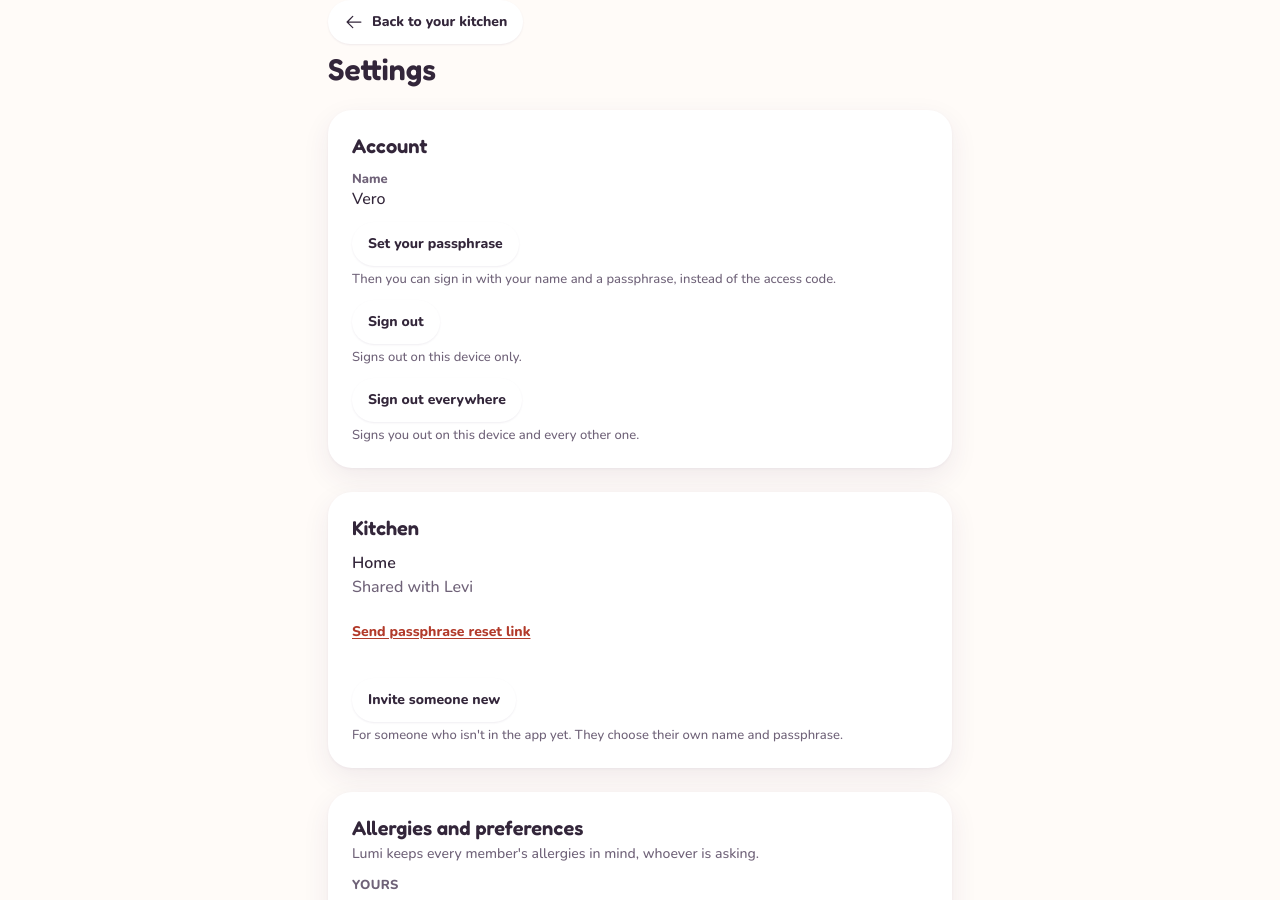
Scenario: Settings → Kitchen: sign-in links › a member who has a passphrase gets a reset link instead
Expected: the element "Kitchen" does not show "still signs in with an access code", [328, 492, 952, 768]
Click the button with aria-label "Send passphrase reset link to Levi" at (441, 632), box [352, 610, 530, 654]
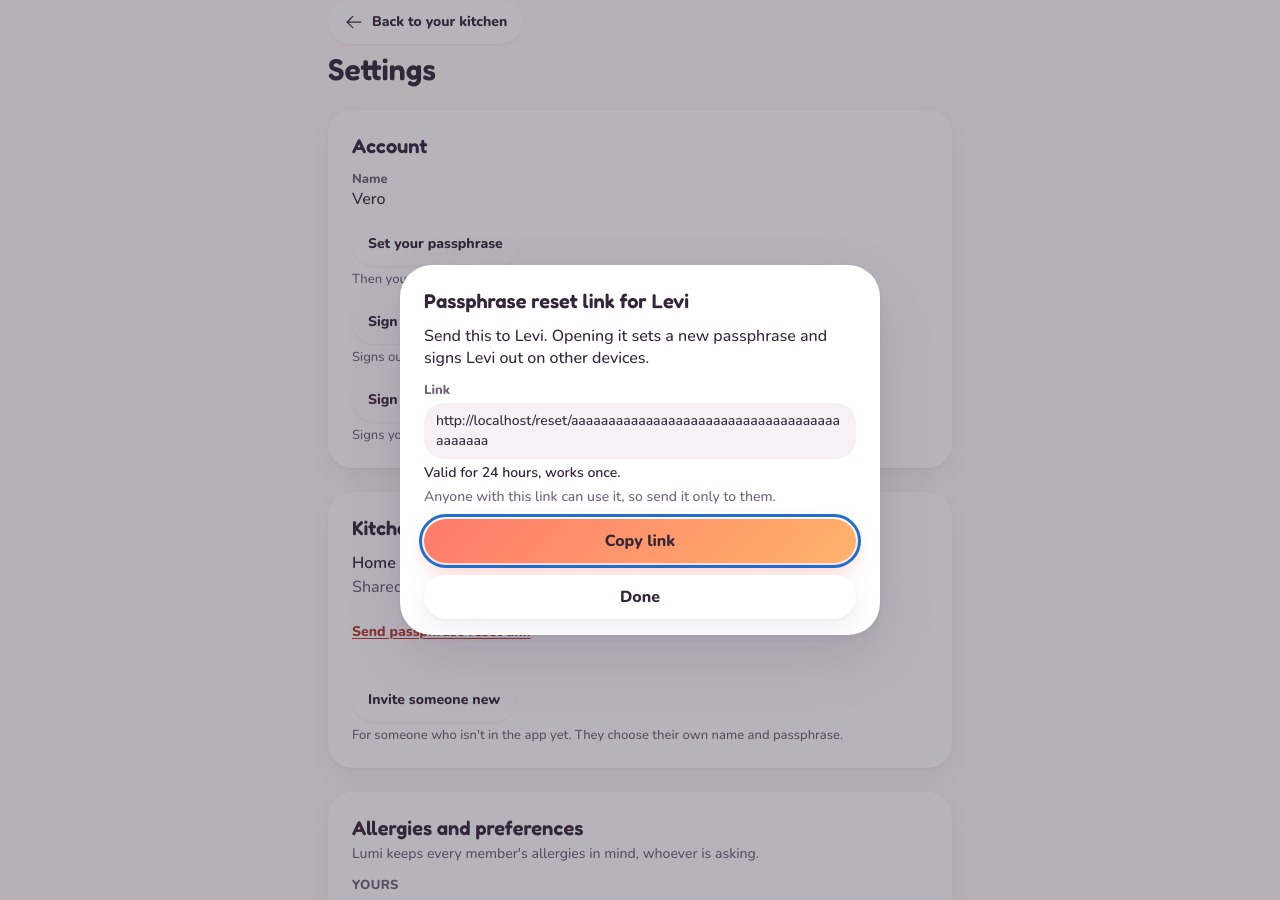
Result: the dialog "Passphrase reset link for Levi" is shown at [400, 265, 880, 635]
